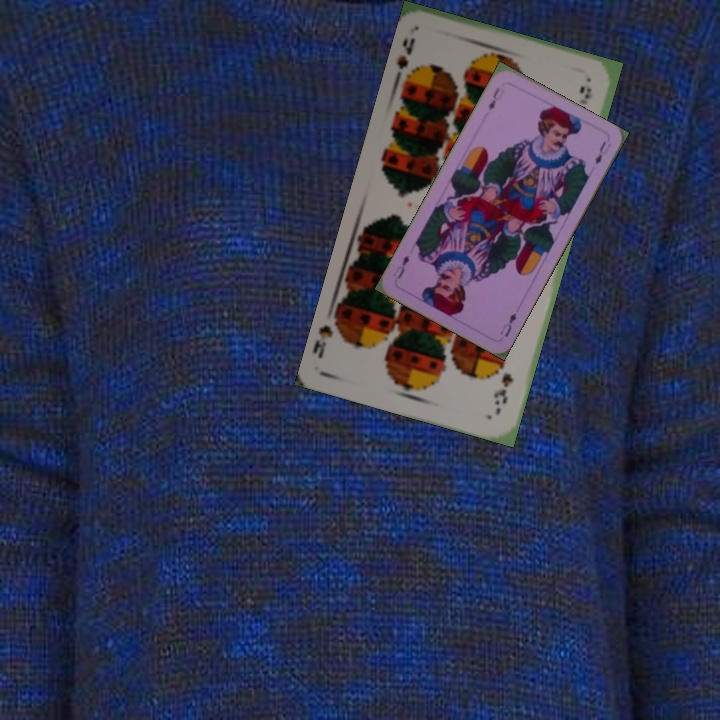EU: (496, 308, 519, 339), (484, 83, 507, 113)
S9: (390, 33, 420, 87), (490, 369, 516, 408)
